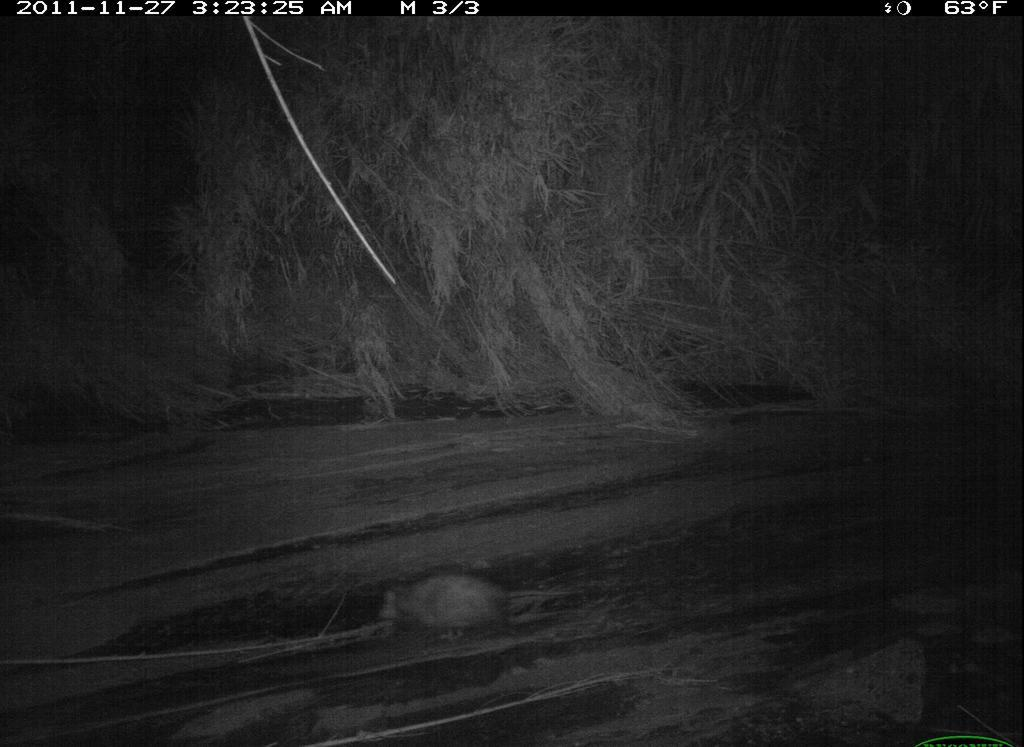opossum: (355, 557, 598, 646)
